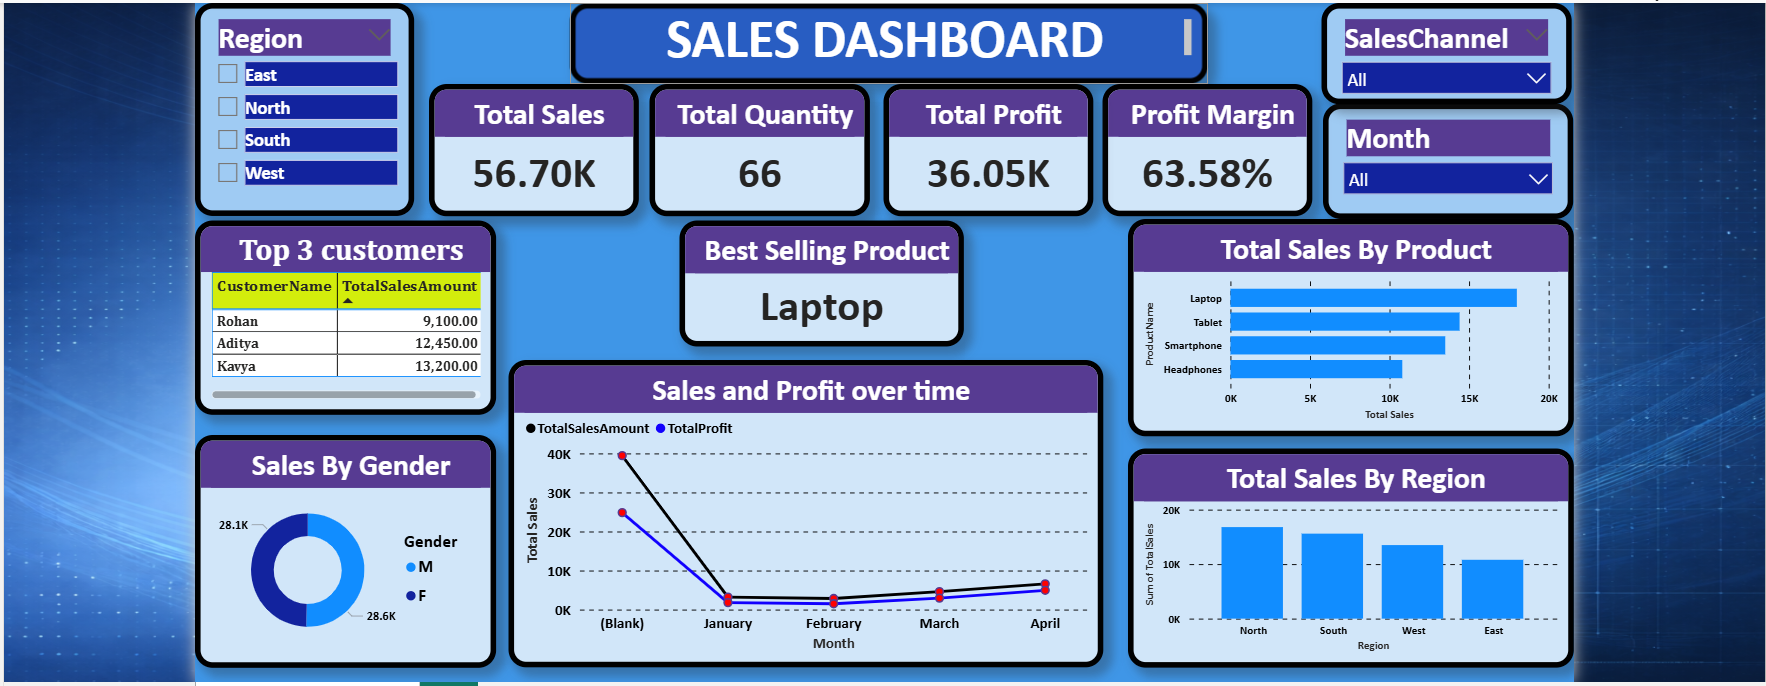

The page's visual inventory and layout, read from the dashboard file:
{"tool":"powerbi","page":{"name":"SALES DASHBOARD","canvas":[1480,729],"ordinal":0},"visuals":[{"type":"textbox","box":[402.6,0,684.5,87],"z":0},{"type":"card","title":"Total Sales","fields":{"Values":["Sales.TotalSalesAmount"]},"box":[251.2,87,225.5,141.7],"z":1000},{"type":"card","title":"Profit Margin","fields":{"Values":["Sales.ProfitMargin %"]},"box":[975,86.7,225,141.7],"z":2000},{"type":"card","title":"Total Profit","fields":{"Values":["Sales.TotalProfit"]},"box":[740,86.7,225,141.7],"z":3000},{"type":"lineChart","title":"Sales and Profit over time","fields":{"Category":["Date.Date.Variation.Date Hierarchy.Year","Date.Date.Variation.Date Hierarchy.Quarter","Date.Date.Variation.Date Hierarchy.Month","Date.Date.Variation.Date Hierarchy.Day"],"Y":["Sales.TotalSalesAmount","Sales.TotalProfit"]},"box":[336.7,383.3,638.3,330],"z":4000},{"type":"clusteredColumnChart","title":"Total Sales By Region","fields":{"Category":["Sales.Region"],"Y":["Sum(Sales.TotalSales)"]},"box":[1001.7,478.3,478.3,235],"z":5000},{"type":"slicer","fields":{"Values":["Date.Date.Variation.Date Hierarchy.Month"]},"box":[1211.1,107.9,269,124],"z":6000},{"type":"slicer","fields":{"Values":["Sales.Region"]},"box":[0,0,235,228.3],"z":7000},{"type":"slicer","fields":{"Values":["Sales.SalesChannel"]},"box":[1210,0,268.3,108.3],"z":8000},{"type":"card","title":"Total Quantity","fields":{"Values":["Sales.TotalQuantitySold"]},"box":[488.3,86.7,236.7,141.7],"z":9000},{"type":"clusteredBarChart","title":"Total Sales By Product","fields":{"Category":["Product.ProductName"],"Y":["Sales.TotalSalesAmount"]},"box":[1001.7,231.7,478.3,233.3],"z":10000},{"type":"tableEx","title":"Top 3 customers","fields":{"Values":["Customer.CustomerName","Sales.TotalSalesAmount"]},"box":[0,233.3,323.3,208.3],"z":11000},{"type":"card","title":"Best Selling Product","fields":{"Values":["Min(Product.ProductName)"]},"box":[520,233.3,305,135],"z":12000},{"type":"donutChart","title":"Sales By Gender","fields":{"Category":["Customer.Gender"],"Y":["Sales.TotalSalesAmount"]},"box":[0,463.3,323.3,250],"z":13000}]}

Visuals, with their boxes in screenshot pixels (x1, y1, x2, y2):
textbox: BBox(566, 0, 1201, 76)
"Total Sales" card: BBox(426, 76, 635, 207)
"Profit Margin" card: BBox(1097, 76, 1306, 207)
"Total Profit" card: BBox(879, 76, 1088, 207)
"Sales and Profit over time" lineChart: BBox(505, 351, 1097, 657)
"Total Sales By Region" clusteredColumnChart: BBox(1122, 439, 1565, 657)
slicer - Date.Date.Variation.Date Hierarchy.Month: BBox(1316, 95, 1565, 210)
slicer - Sales.Region: BBox(193, 0, 411, 207)
slicer - Sales.SalesChannel: BBox(1315, 0, 1564, 96)
"Total Quantity" card: BBox(646, 76, 865, 207)
"Total Sales By Product" clusteredBarChart: BBox(1122, 210, 1565, 426)
"Top 3 customers" tableEx: BBox(193, 212, 493, 405)
"Best Selling Product" card: BBox(675, 212, 958, 337)
"Sales By Gender" donutChart: BBox(193, 425, 493, 657)
